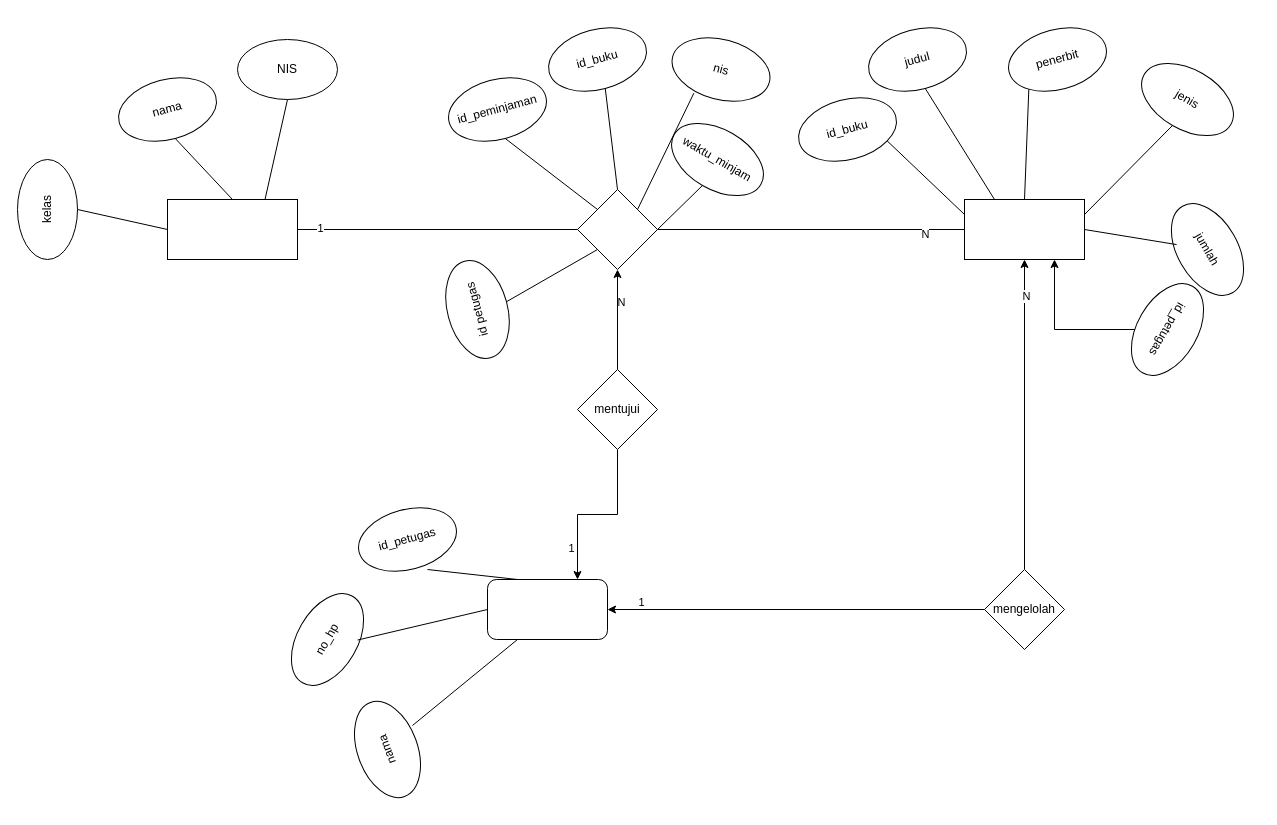
The diagram is 1277 pixels wide and 825 high, and some of its shapes have lost their labels. Each missing label, with the centre of its shape:
"buku" goes at pixel 1024 229.
"meminjam" goes at pixel 617 229.
"petugas" goes at pixel 547 609.
"siswa" goes at pixel 232 229.
